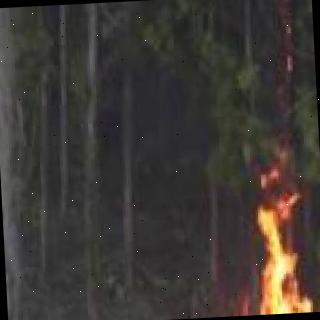fire: (176, 191, 320, 319)
